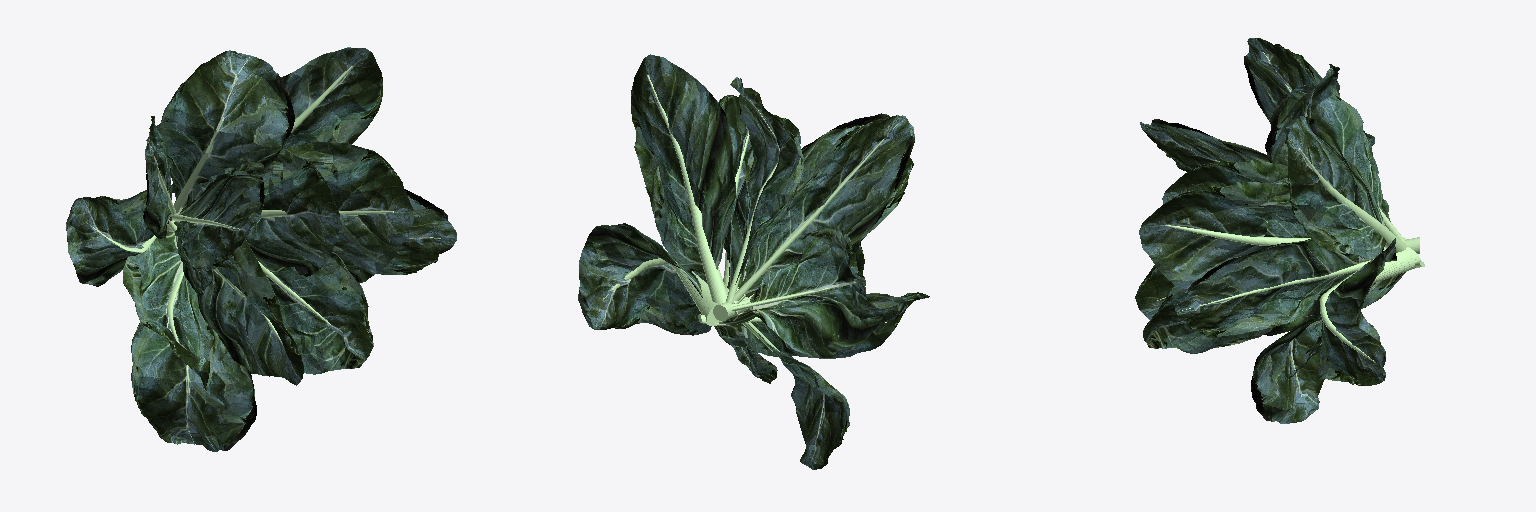
3 views of the same model, side by side, from view 1: azimuth 30°, elevation 25°; view 2: azimuth 150°, elevation 25°; view 3: azimuth 270°, elevation 25° (orthographic).
Visible parts, largest first — view 1: plant_Cylinder.012; view 2: plant_Cylinder.012; view 3: plant_Cylinder.012.
Boxes of the visible parts, x1,y1,x2,y2 form: plant_Cylinder.012: [66, 47, 456, 451]; plant_Cylinder.012: [578, 54, 929, 469]; plant_Cylinder.012: [1135, 38, 1424, 423].
Bounding box in the file's own units: 0.2889 × 0.3468 × 0.2423.
Materials: 2 (1 with a texture image).